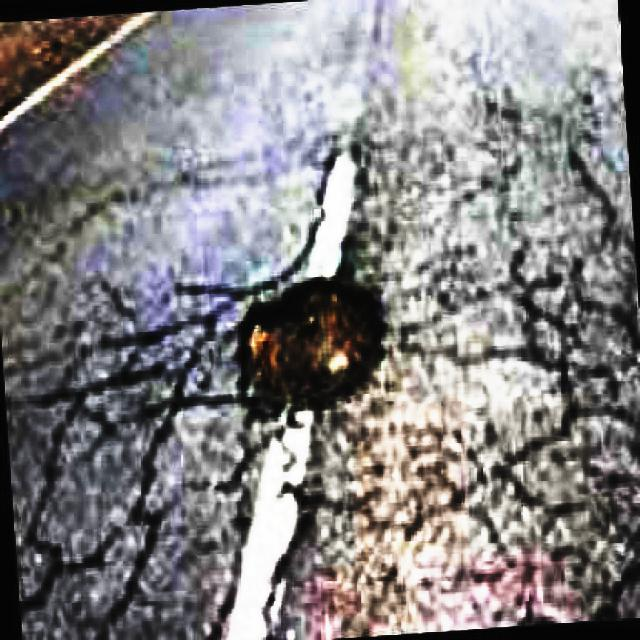pothole: (240, 269, 385, 420)
